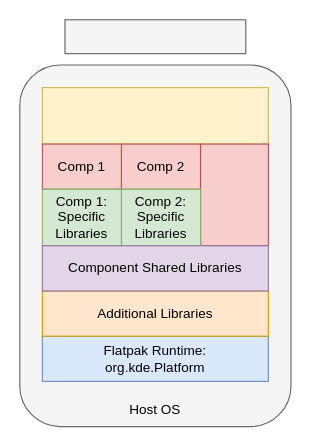
Image size: 311x446. Some labels were removed from this diagram. Here are the shapes that lost their labels. From the top down, the box of each, then its label:
(64, 19, 246, 54): RetroDECK New
(41, 86, 268, 144): Flatpak Application: RetroDECK New
(199, 143, 268, 246): Comp 3
